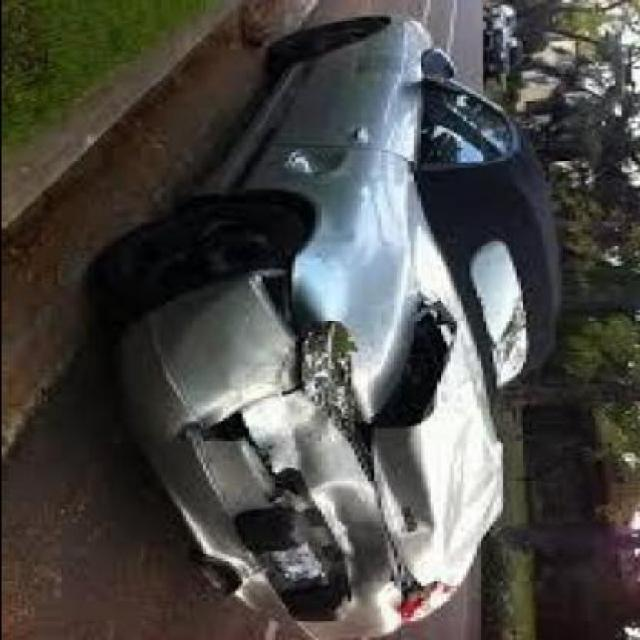damage: (127, 280, 503, 640)
